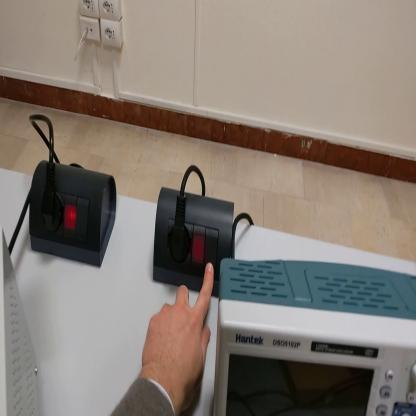hand: (141, 265, 214, 409)
oscilloscope: (220, 260, 416, 416)
power supply: (3, 229, 40, 416)
socket: (28, 159, 119, 267), (152, 188, 238, 302)
